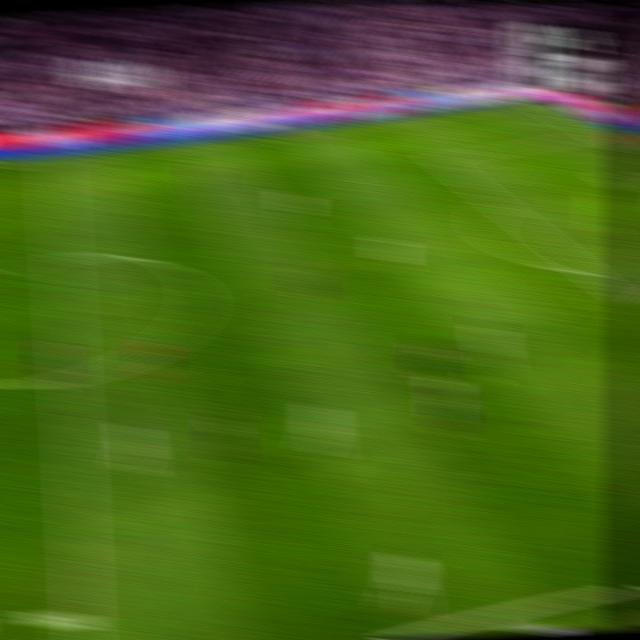bigarea_top_inner: (429, 149, 454, 167)
bigarea_top_outter: (582, 126, 607, 140)
bottom_arc_area_intersection: (574, 261, 603, 282)
corner: (515, 95, 541, 107)
halfcircle_bottom: (54, 363, 83, 392)
halfcircle_top: (46, 245, 76, 272)
midline_top_intersection: (42, 153, 67, 170)
smallarea_top_inner: (598, 171, 620, 183)
top_arc_area_intersection: (485, 194, 511, 211)
